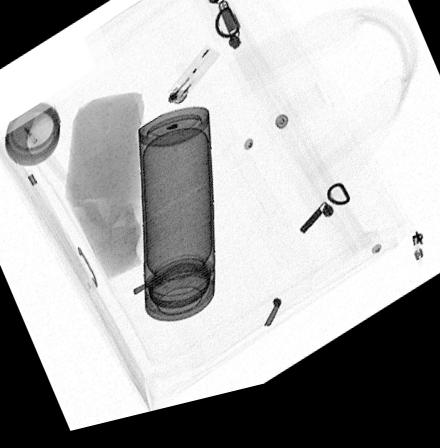Lighter: (166, 54, 221, 113)
